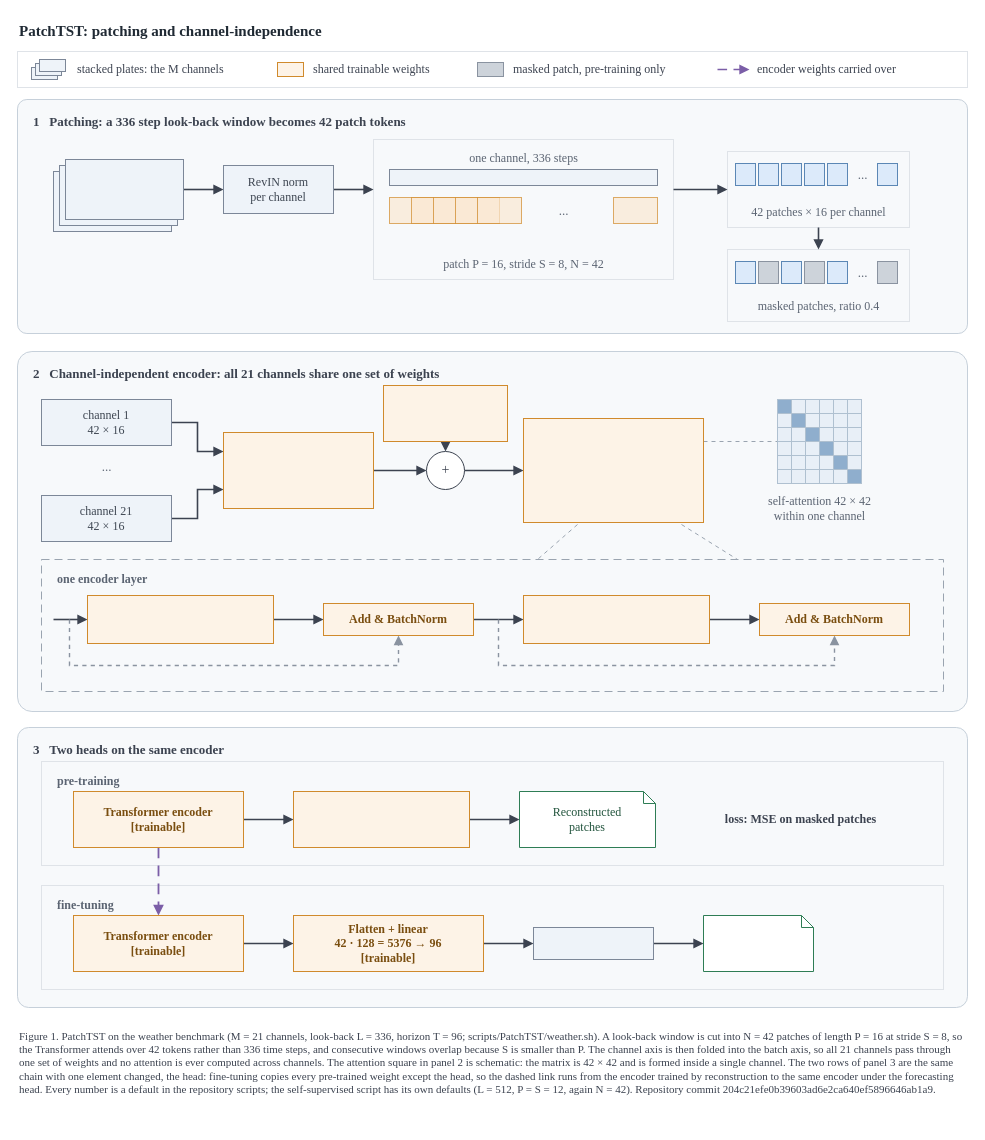
Some shapes in this 985 by 1140 pixel diagram are drawn without their labels. The shapes that lost their labels are listed below. From the top down, each one's centre as x and y in pixels, then its label:
At (124,189): "Look-back window 336 × 21 (weather)".
At (445,413): "Learned position 42 × 128 [trainable]".
At (298,470): "Patch embedding 16 → 128 [trainable]".
At (613,470): "Transformer encoder × N = 3 d = 128, h = 16 [trainable]".
At (180,619): "Multi-head attention h = 16, d = 128".
At (616,619): "Feed-forward 128 → 256 → 128, GELU".
At (381,819): "Linear 128 → P one patch per token [trainable]".
At (593,943): "RevIN denorm".
At (758,943): "Forecast 96 × 21".
